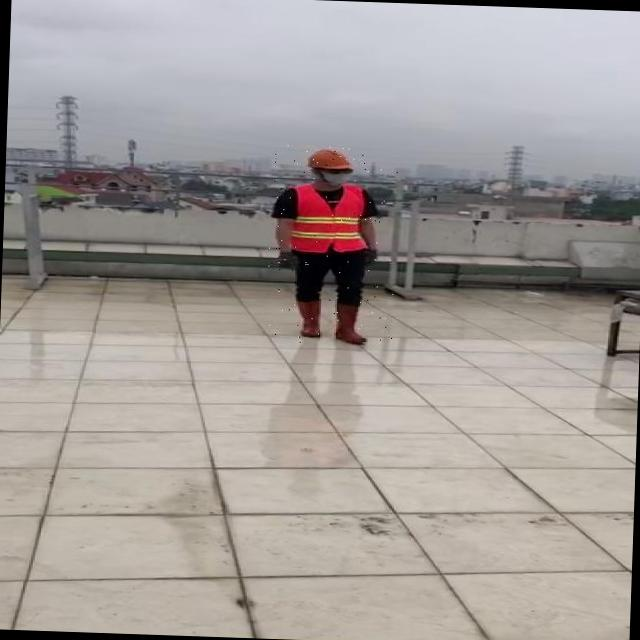boots: (330, 302, 369, 344), (291, 298, 322, 338)
gloves: (343, 238, 400, 290), (258, 240, 316, 288)
helmet: (305, 147, 354, 170)
vest: (290, 183, 369, 255)
